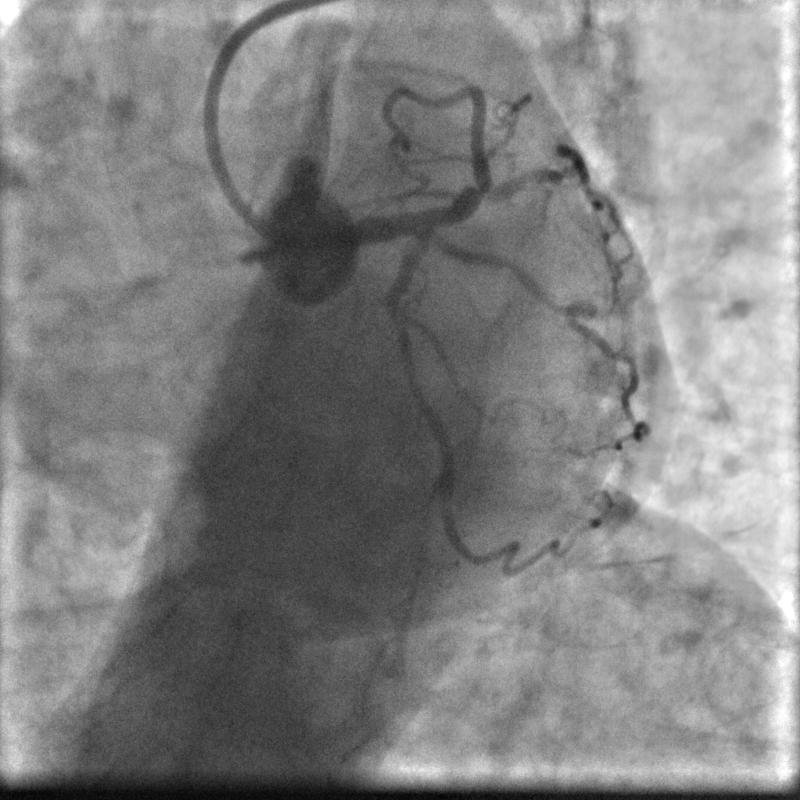Stenosis: (387, 298, 416, 335)
